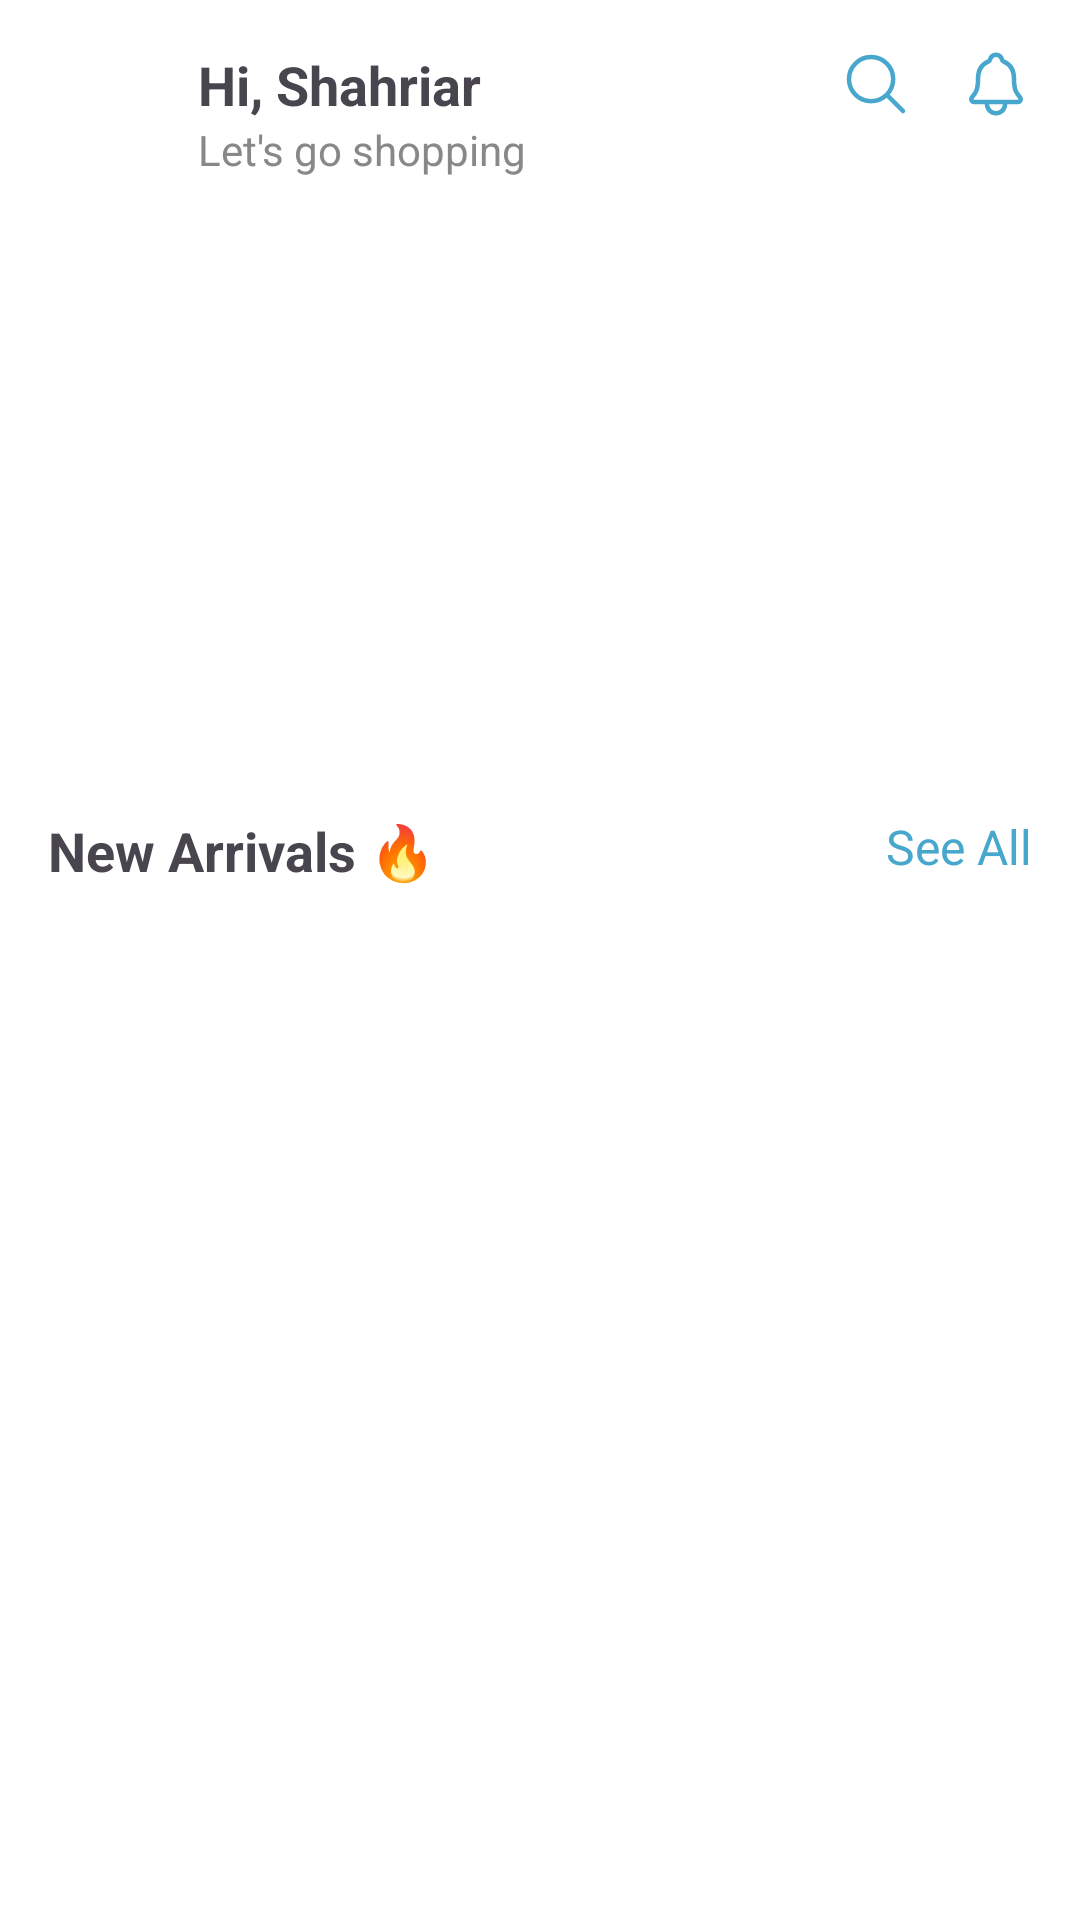

Where icons sit on this 1080w x 1920h app screen, as (x1, y1, x2, y2):
notifications: (969, 52, 1023, 116)
search: (846, 54, 905, 114)
